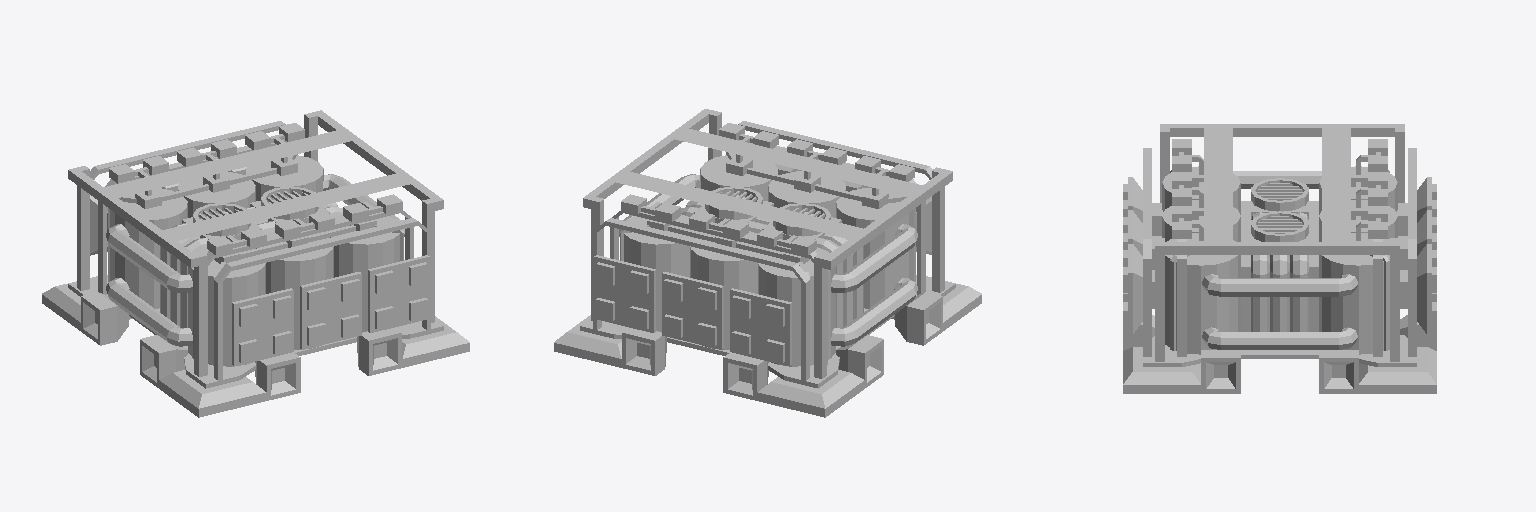
The model's file is chemfac.obj.
The picture shows the model from 3 angles: view 1: azimuth 30°, elevation 25°; view 2: azimuth 150°, elevation 25°; view 3: azimuth 270°, elevation 25°; orthographic projection.
Visible parts, largest first — view 1: Main; view 2: Main; view 3: Main.
Part boxes in pixels (x1,y1,x2,y2): Main: (42, 110, 469, 417); Main: (554, 109, 981, 417); Main: (1123, 124, 1436, 393).
Size of the model in its own units: 8 by 4 by 8.